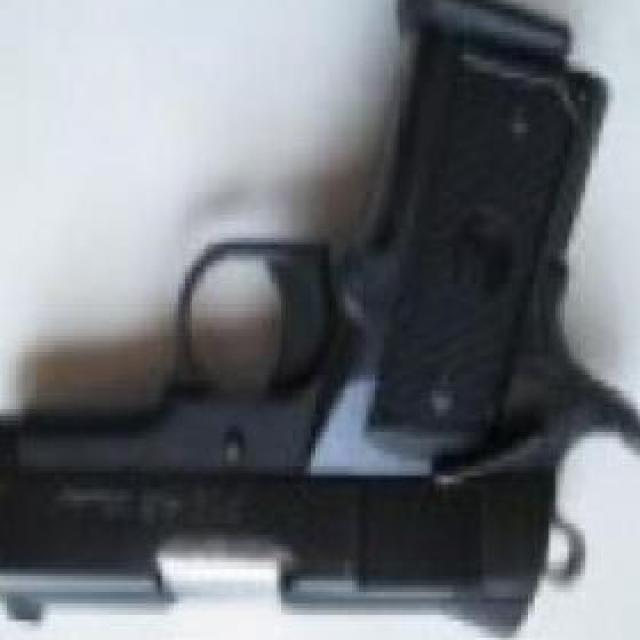pistol: (0, 0, 606, 631)
